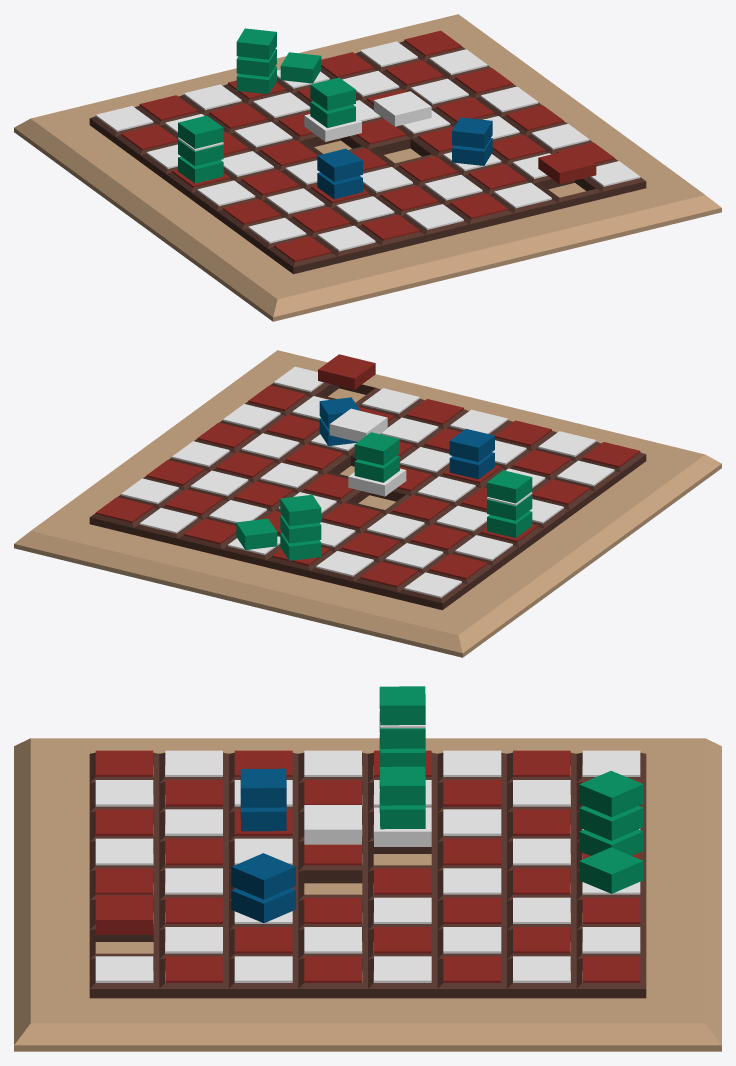
The model's file is chess12.gltf.
3 renders of one model, top to bottom at view 1: azimuth 30°, elevation 25°; view 2: azimuth 150°, elevation 25°; view 3: azimuth 270°, elevation 25°, orthographic. The views are drawn at different scales.
Parts seen in each view (by area): view 1: board_base, tile.053, tile.001, Cylinder.012, Cylinder.008, Cylinder.006, Cylinder.013, Cylinder.009, Cylinder.003, trim.053, tile.010, tile.030 (+62 smaller); view 2: board_base, tile.053, tile.001, Cylinder.008, Cylinder.012, Cylinder.006, Cylinder.003, Cylinder.013, tile.004, tile.011, tile.022, tile.038 (+61 smaller); view 3: board_base, tile.053, tile.001, Cylinder.009, Cylinder.013, Cylinder.003, Cylinder.008, Cylinder.012, Cylinder.006, tile.017, tile.043, tile.025 (+89 smaller).
Boxes of the visible parts, bbox=[...] form: board_base: bbox=[14, 14, 721, 321]; tile.053: bbox=[538, 148, 596, 184]; tile.001: bbox=[374, 91, 431, 126]; Cylinder.012: bbox=[178, 115, 223, 148]; Cylinder.008: bbox=[310, 77, 355, 110]; Cylinder.006: bbox=[317, 148, 362, 181]; Cylinder.013: bbox=[280, 52, 321, 83]; Cylinder.009: bbox=[452, 117, 492, 148]; Cylinder.003: bbox=[236, 28, 276, 59]; trim.053: bbox=[533, 178, 601, 209]; tile.010: bbox=[480, 86, 538, 112]; tile.030: bbox=[385, 60, 443, 85]; board_base: bbox=[14, 350, 721, 657]; tile.053: bbox=[318, 354, 375, 389]; tile.001: bbox=[329, 408, 387, 441]; Cylinder.008: bbox=[354, 432, 399, 465]; Cylinder.012: bbox=[487, 470, 532, 503]; Cylinder.006: bbox=[449, 429, 494, 461]; Cylinder.003: bbox=[280, 494, 321, 526]; Cylinder.013: bbox=[236, 518, 277, 549]; tile.004: bbox=[392, 495, 450, 520]; tile.011: bbox=[197, 422, 255, 448]; tile.022: bbox=[190, 470, 248, 496]; tile.038: bbox=[139, 508, 197, 533]; board_base: bbox=[14, 738, 721, 1051]; tile.053: bbox=[95, 895, 153, 934]; tile.001: bbox=[304, 805, 361, 844]; Cylinder.009: bbox=[231, 853, 295, 899]; Cylinder.013: bbox=[579, 847, 643, 893]; Cylinder.003: bbox=[579, 771, 643, 817]; Cylinder.008: bbox=[379, 766, 425, 805]; Cylinder.012: bbox=[379, 686, 425, 725]; Cylinder.006: bbox=[240, 768, 286, 807]; tile.017: bbox=[443, 838, 501, 865]; tile.043: bbox=[95, 838, 153, 865]; tile.025: bbox=[513, 838, 570, 865].
Size of the model in its own units: 20.36 by 3.52 by 20.36.
